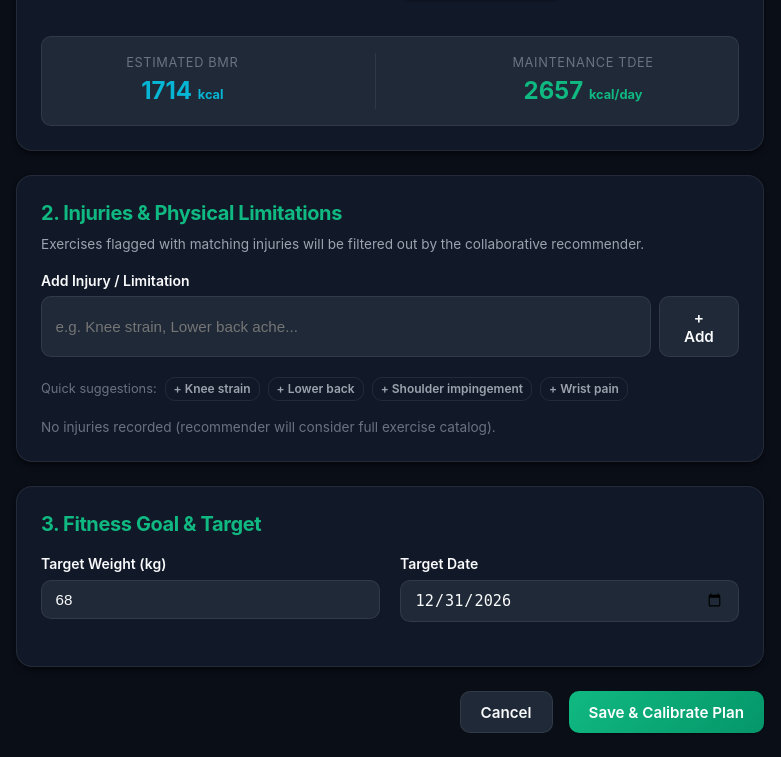
Test: UI Components & Accessibility › renders OnboardingPage with accessible form controls and injury tag additions
(page scrolled)
Expected: the number field labelled "Target Weight (kg)" is shown, left=41, top=580, right=380, bottom=619
Add a common injury tag
What coordinates should you click on to do the following:
click the button "+ Knee strain"
I would click on:
 (212, 389)
Its box is left=165, top=377, right=260, bottom=401.
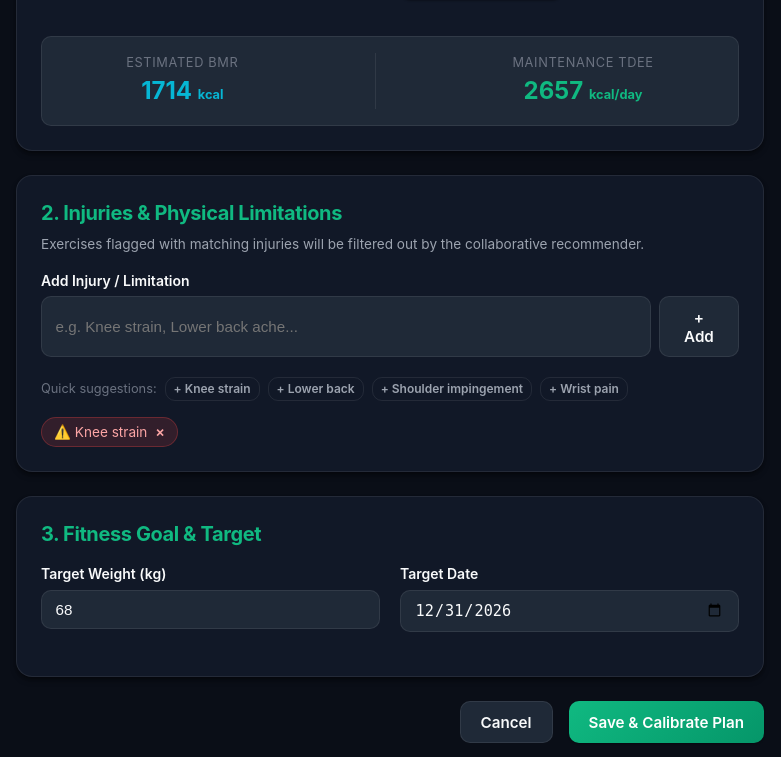
Expected: the button named "Remove Knee strain" is shown, left=155, top=423, right=165, bottom=440
